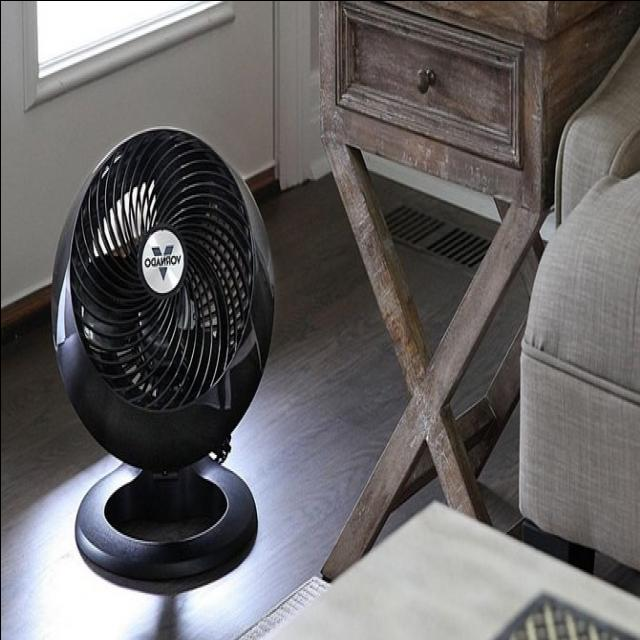fan: (48, 123, 271, 599)
